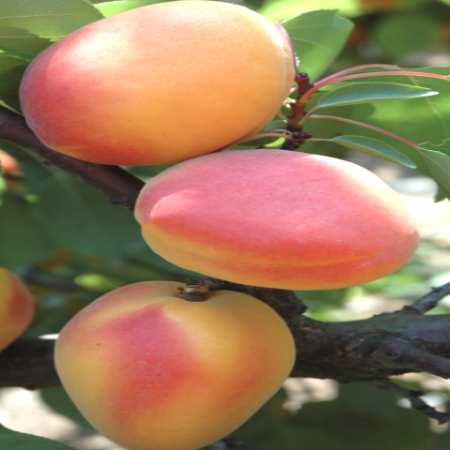mango: (2, 1, 313, 169), (35, 263, 315, 443), (131, 133, 421, 301)
